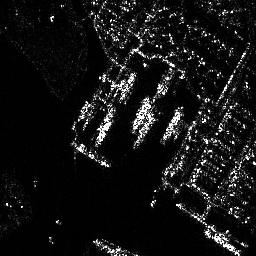ship: (71, 137, 112, 168), (159, 105, 184, 144), (132, 110, 155, 149), (131, 97, 151, 133), (93, 120, 114, 148), (119, 71, 137, 103)
